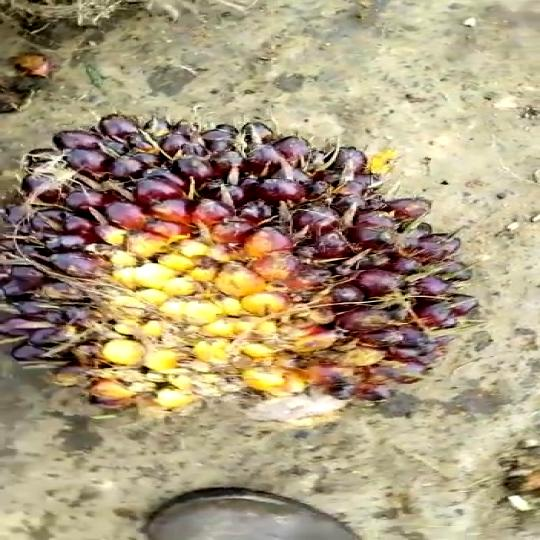mentah: (0, 108, 488, 435)
